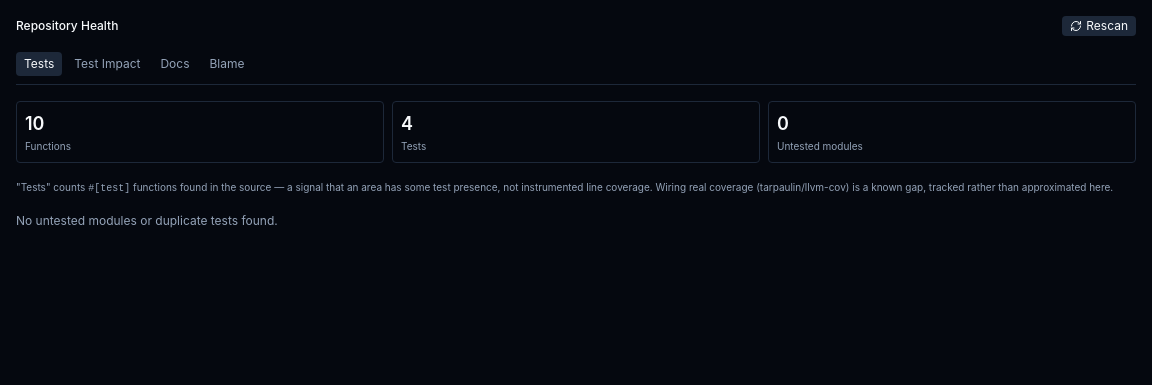
Test: RepoHealthPanel › Test Impact tab looks up covering tests for a symbol
Expected: the text "No untested modules or duplicate tests found." is shown, [16,213,278,228]
Click the button "test impact".
click(107, 64)  # box [66,52,148,76]
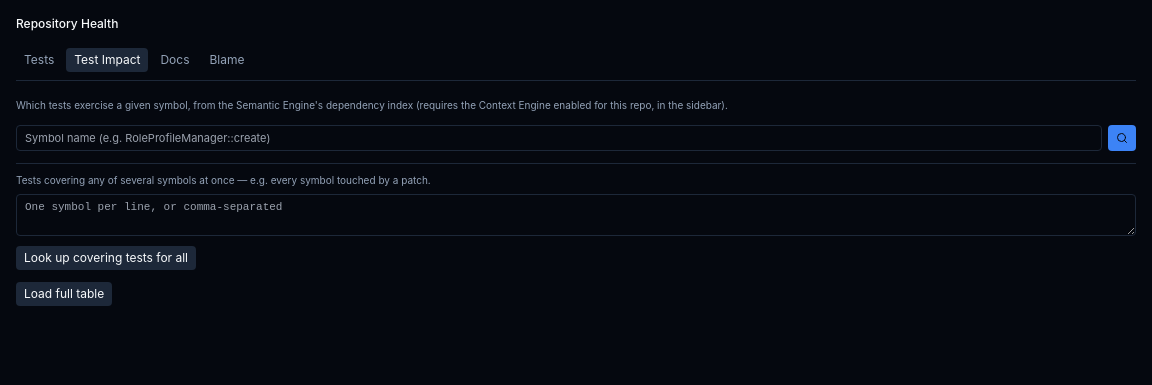
Type "run_migrations" into the field with placeholder "Symbol name (e.g. RoleProfileManager::create)".
click(559, 138); type("run_migrations")  # box [16,125,1102,151]
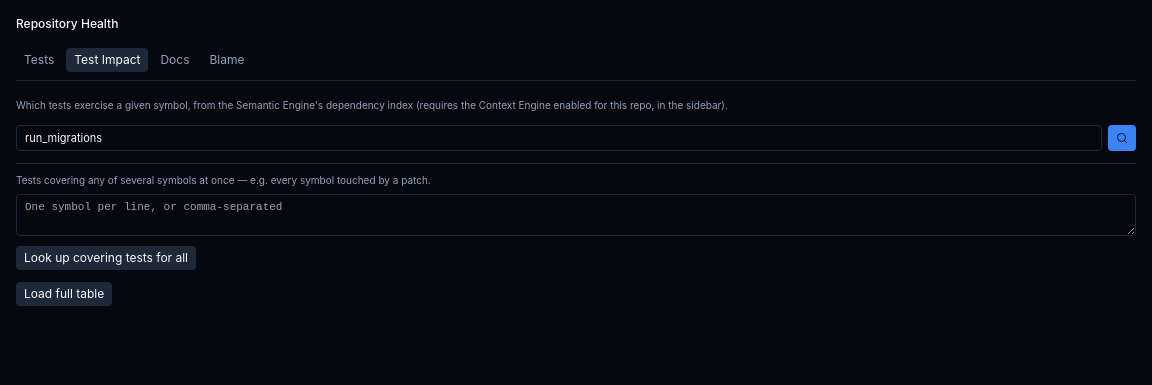
Press Enter in the field with placeholder "Symbol name (e.g. RoleProfileManager::create)", box [16,125,1102,151]
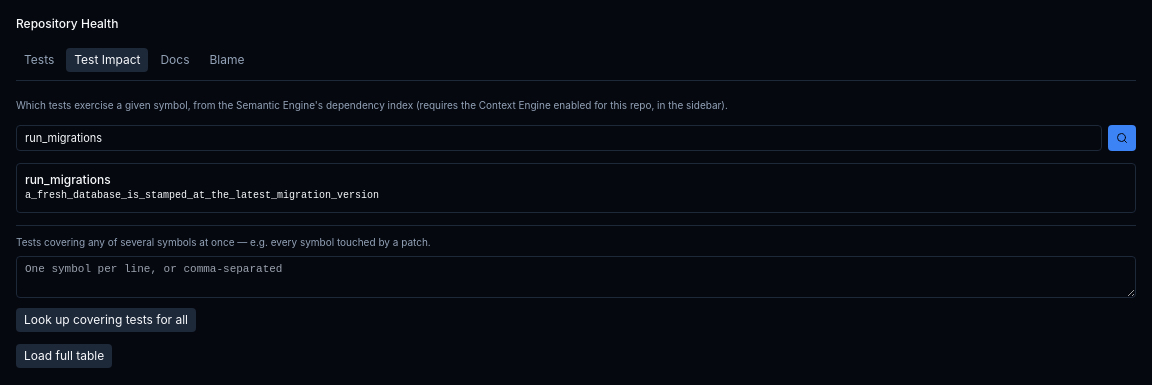
Expected: the text "a_fresh_database_is_stamped_at_the_latest_migration_version" is shown, [25,190,379,201]
